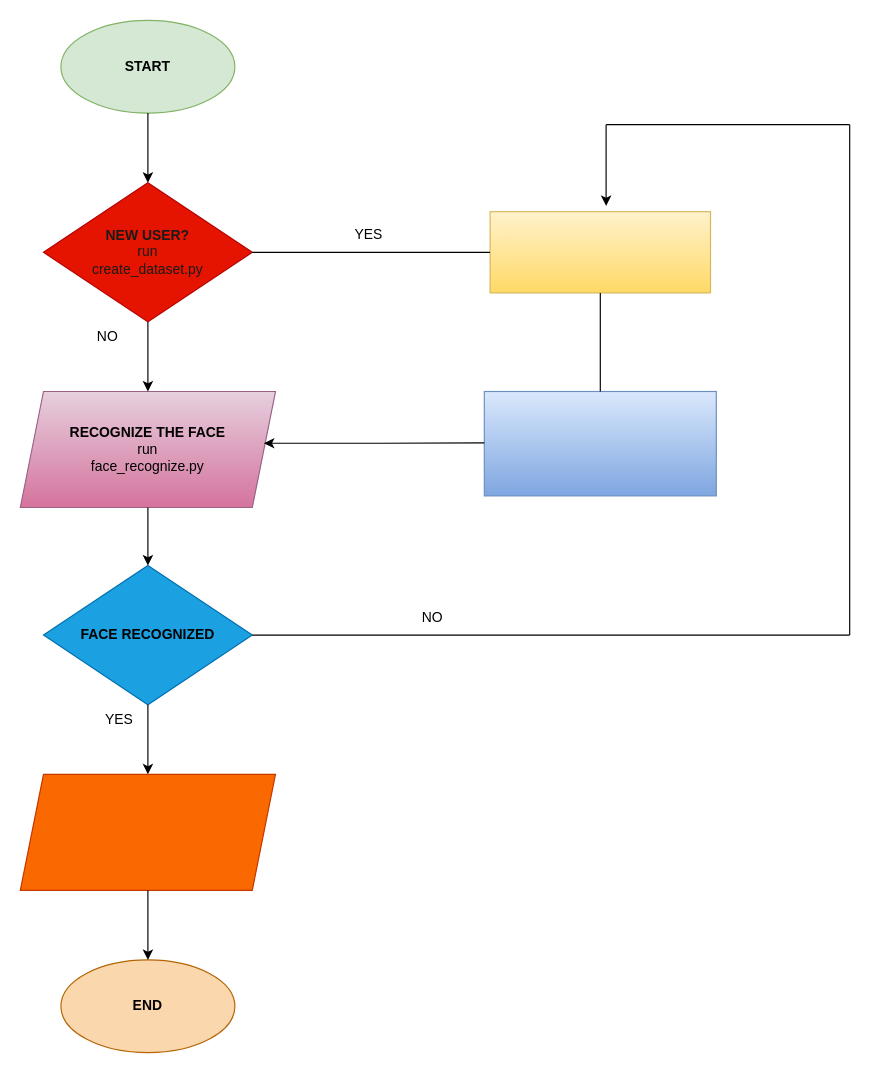
Image size: 871x1073. Some labels were removed from this diagram. Each missing label, with the box of its shape:
GIVE YOUR PHOTOGRAPH: (489, 211, 710, 293)
STORE THE FACE DATA IN FOLDER ON YOUR NAME: (483, 390, 716, 496)
STORED IN CSV FILE WITH REGISTRATION NUMBER AND DATE. TIME OF ENTRY: (19, 773, 276, 890)
